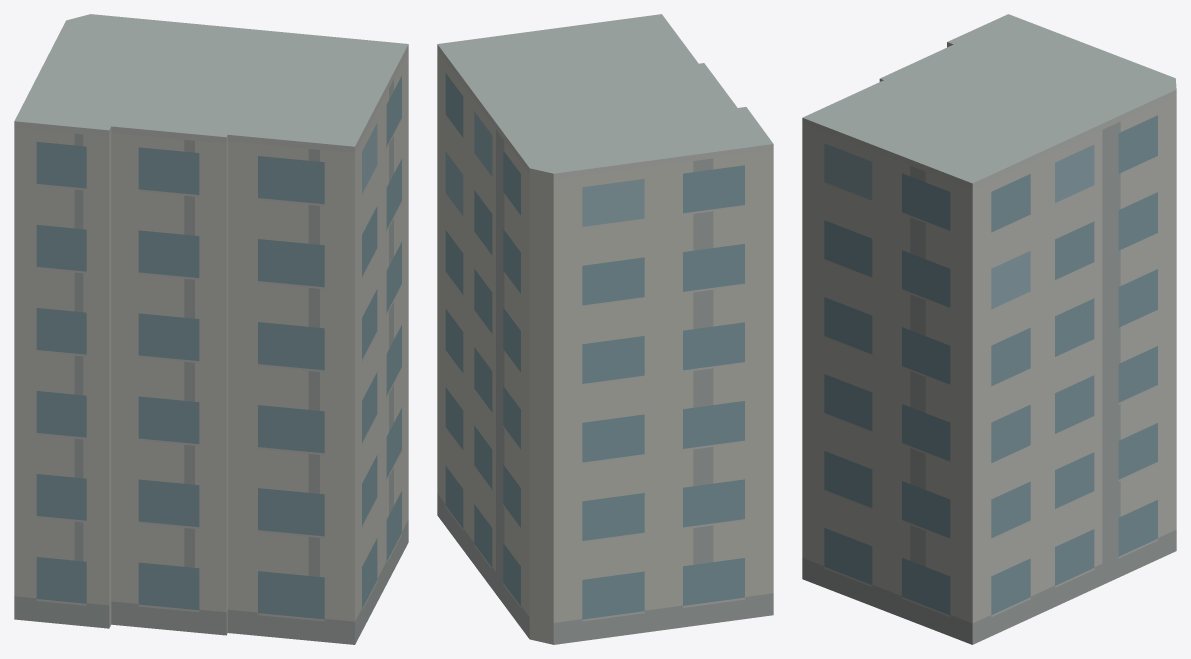
The model's file is survey-upis-32910011.glb.
3 renders of one model, left to right at view 1: azimuth 30°, elevation 25°; view 2: azimuth 150°, elevation 25°; view 3: azimuth 270°, elevation 25°, orthographic. The views are drawn at different scales.
Parts seen in each view (by area): view 1: survey-upis-32910011.tmp; view 2: survey-upis-32910011.tmp; view 3: survey-upis-32910011.tmp.
Part boxes in pixels (box(x1,y1,x2,y2)): survey-upis-32910011.tmp: box(14, 14, 408, 644); survey-upis-32910011.tmp: box(437, 14, 773, 644); survey-upis-32910011.tmp: box(802, 14, 1176, 644).
Size of the model in its own units: 14.5 by 18.4 by 13.53.
